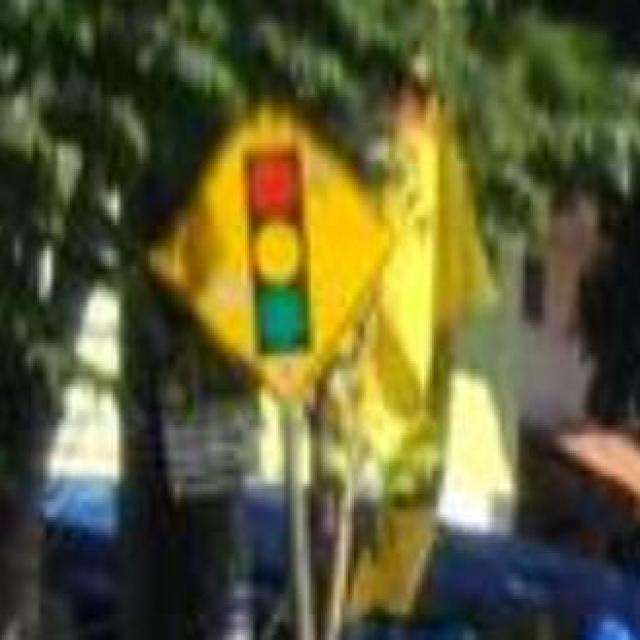traffic sign: (158, 102, 384, 392)
